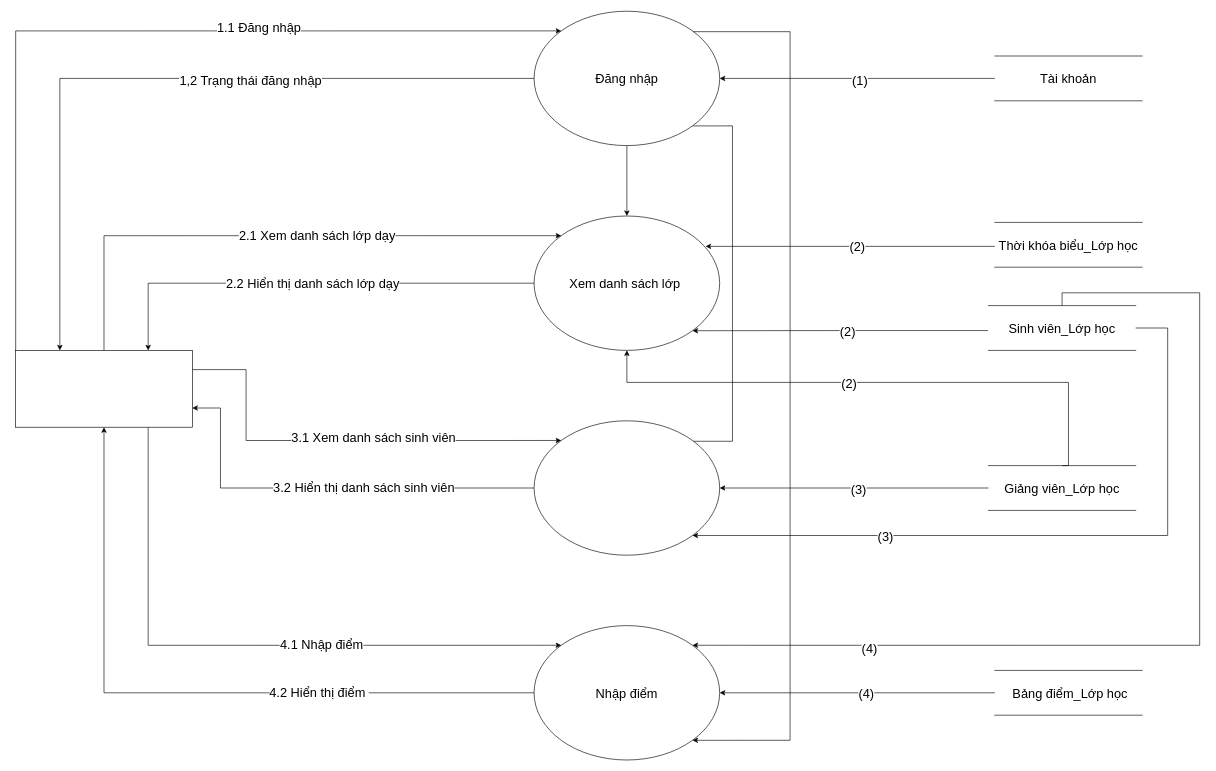
This 1216x771 diagram has some shape labels left out. The shapes that lost their labels are listed below. From the top down, each one's centre as x and y in pixels, then its label:
At (103,388): "Giảng viên".
At (626,487): "Xem danh sách sinh viên".
